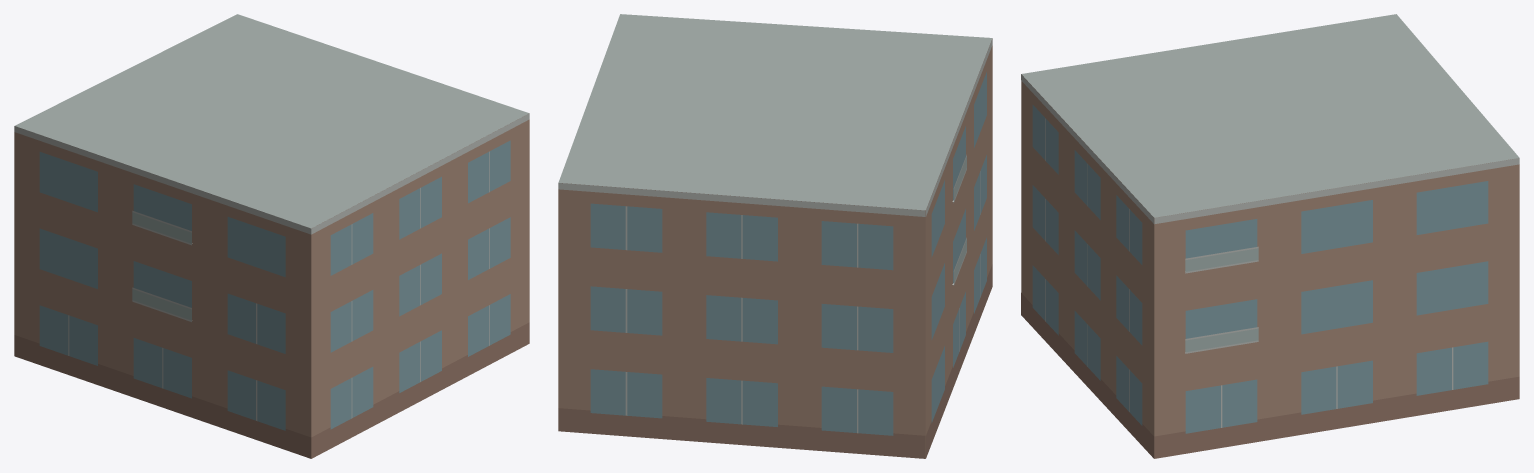
The model's file is survey-upis-32843228.glb.
3 renders of one model, left to right at view 1: azimuth 30°, elevation 25°; view 2: azimuth 150°, elevation 25°; view 3: azimuth 270°, elevation 25°, orthographic. The views are drawn at different scales.
Parts seen in each view (by area): view 1: survey-upis-32843228.tmp; view 2: survey-upis-32843228.tmp; view 3: survey-upis-32843228.tmp.
Boxes of the visible parts, left/top/right/bottom form: survey-upis-32843228.tmp: left=14, top=14, right=529, bottom=458; survey-upis-32843228.tmp: left=558, top=14, right=992, bottom=458; survey-upis-32843228.tmp: left=1021, top=14, right=1519, bottom=458.
Bounding box in the file's own units: 16.6 × 9.15 × 17.16.
